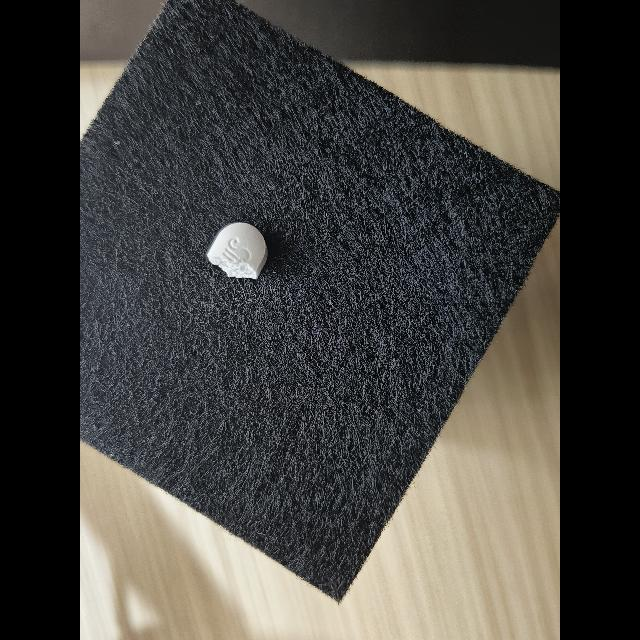Chipped Pill: (207, 222, 268, 279)
